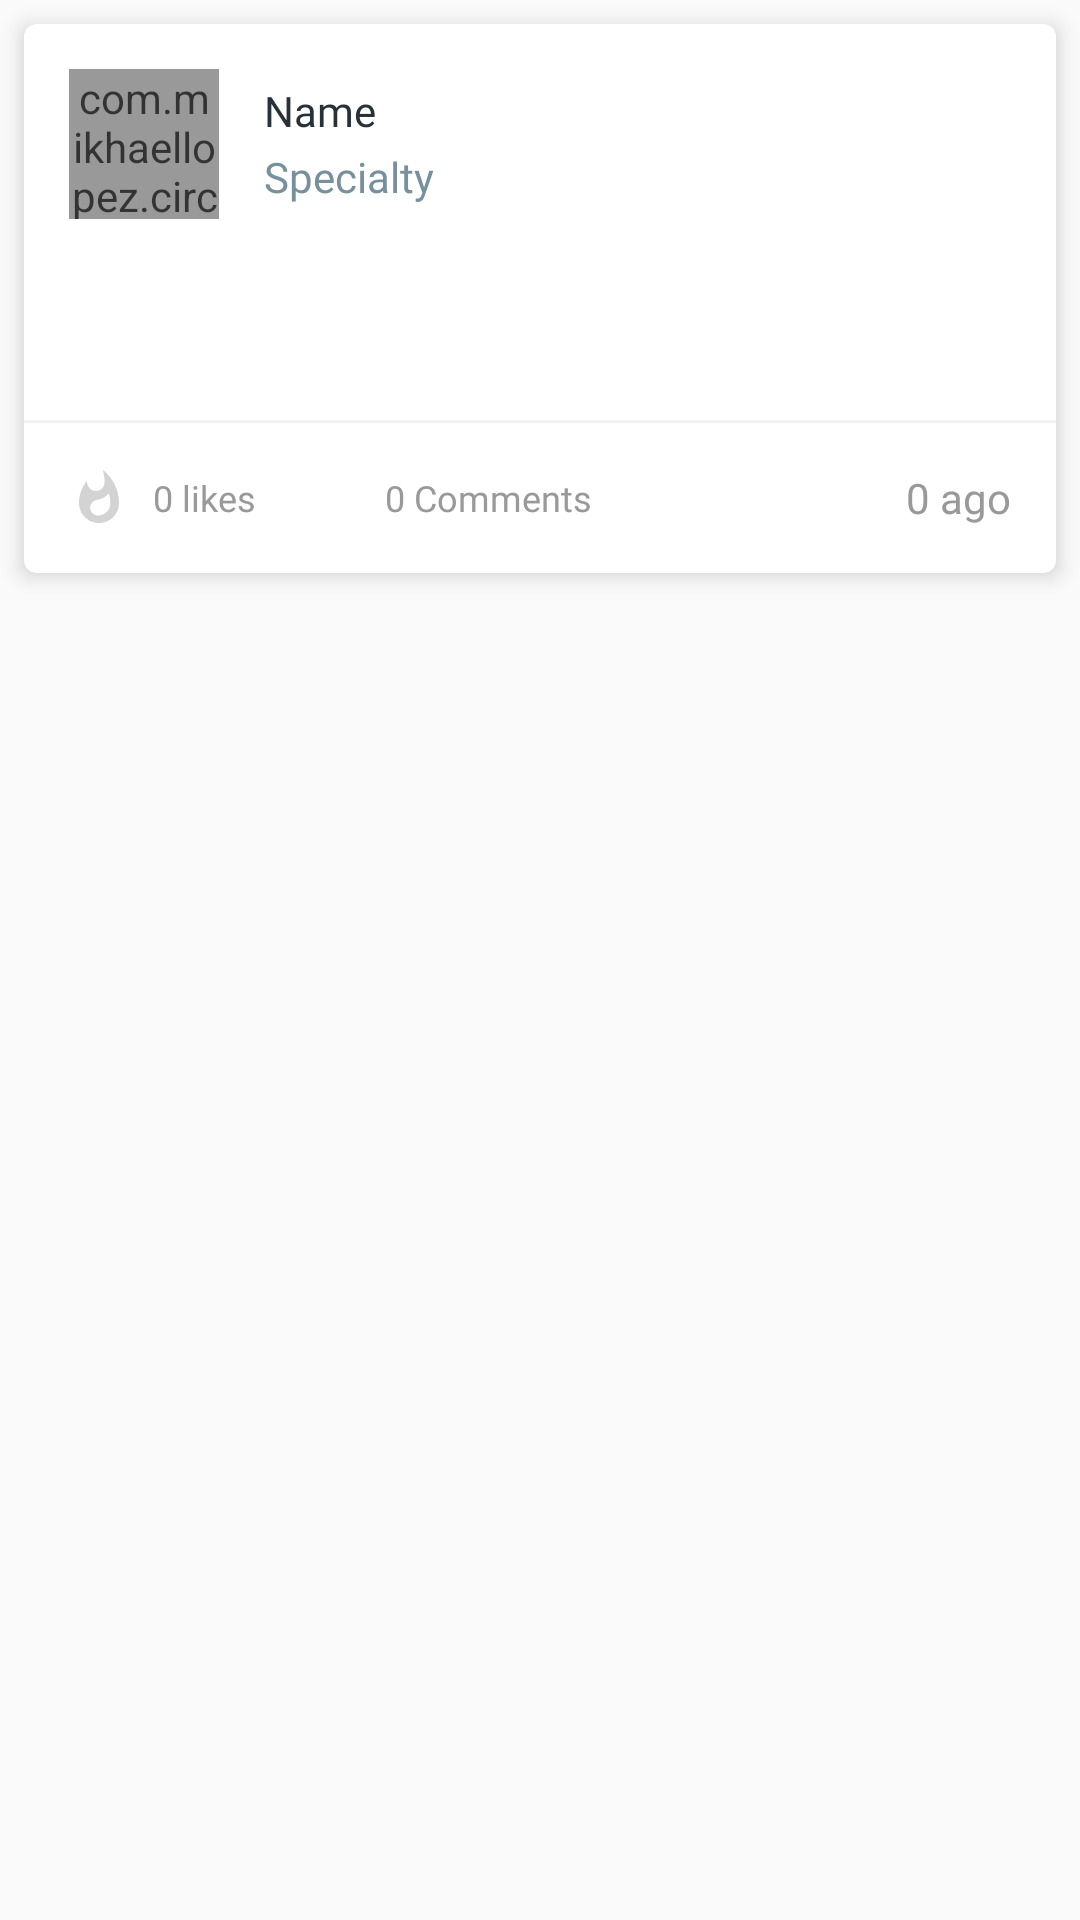

Icons on this 1080 × 1920 Android screen, each with the point to tap as (x,y):
whatshot: (99,496)
